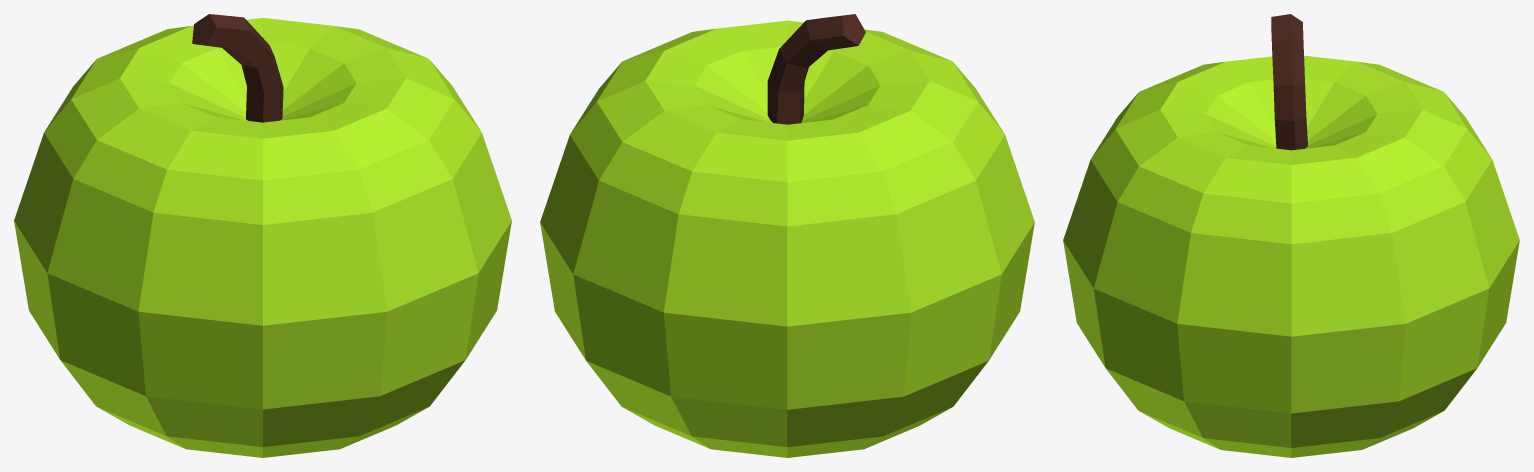
Rendered from apple_green.fbx.
3 views of the same model, side by side, from view 1: azimuth 30°, elevation 25°; view 2: azimuth 150°, elevation 25°; view 3: azimuth 270°, elevation 25° (orthographic). The views are drawn at different scales.
Visible parts, largest first — view 1: apple_green; view 2: apple_green; view 3: apple_green.
Part boxes in pixels (x1=…): apple_green: x1=14, y1=14, x2=511, y2=457; apple_green: x1=540, y1=14, x2=1034, y2=457; apple_green: x1=1063, y1=14, x2=1519, y2=457.
Size of the model in its own units: 118 by 109 by 118.
